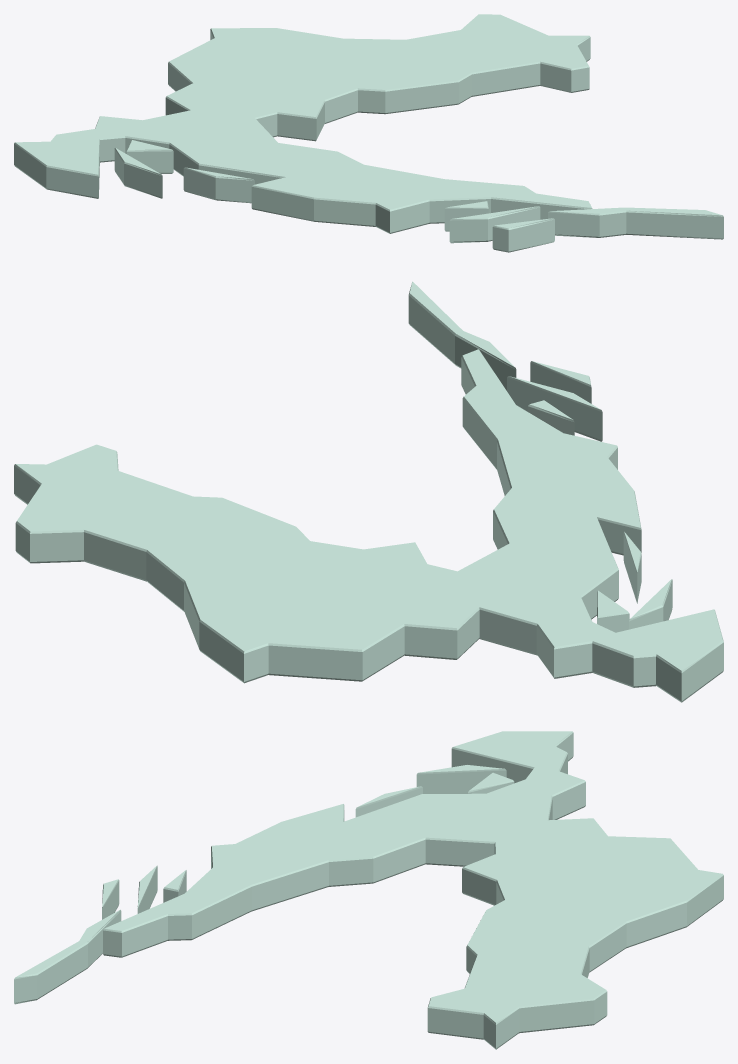
Rendered from HRV.glb.
3 renders of one model, top to bottom at view 1: azimuth 30°, elevation 25°; view 2: azimuth 150°, elevation 25°; view 3: azimuth 270°, elevation 25°, orthographic. The views are drawn at different scales.
Size of the model in its own units: 1.59 by 0.068 by 1.63.
